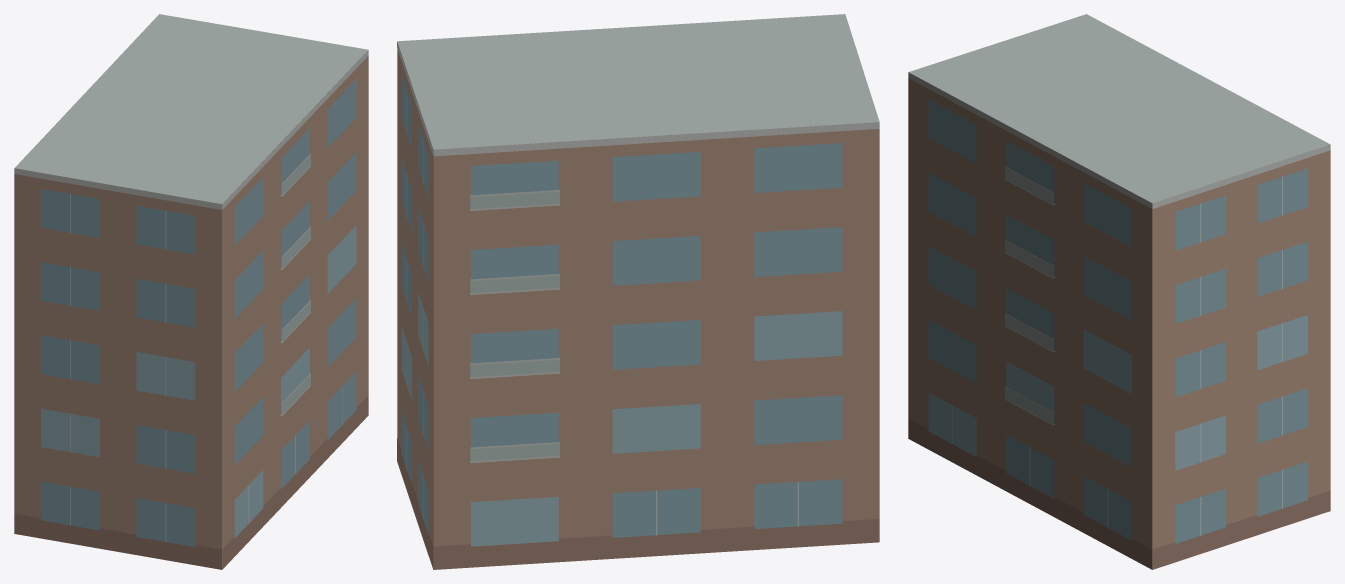
The model's file is survey-upis-32779659.glb.
3 views of the same model, side by side, from view 1: azimuth 30°, elevation 25°; view 2: azimuth 150°, elevation 25°; view 3: azimuth 270°, elevation 25° (orthographic). The views are drawn at different scales.
Visible parts, largest first — view 1: survey-upis-32779659.tmp; view 2: survey-upis-32779659.tmp; view 3: survey-upis-32779659.tmp.
Boxes of the visible parts, bbox=[...] form: survey-upis-32779659.tmp: bbox=[14, 14, 368, 569]; survey-upis-32779659.tmp: bbox=[397, 14, 879, 569]; survey-upis-32779659.tmp: bbox=[908, 14, 1330, 569].
Bounding box in the file's own units: 16.96 × 15.3 × 15.98.
